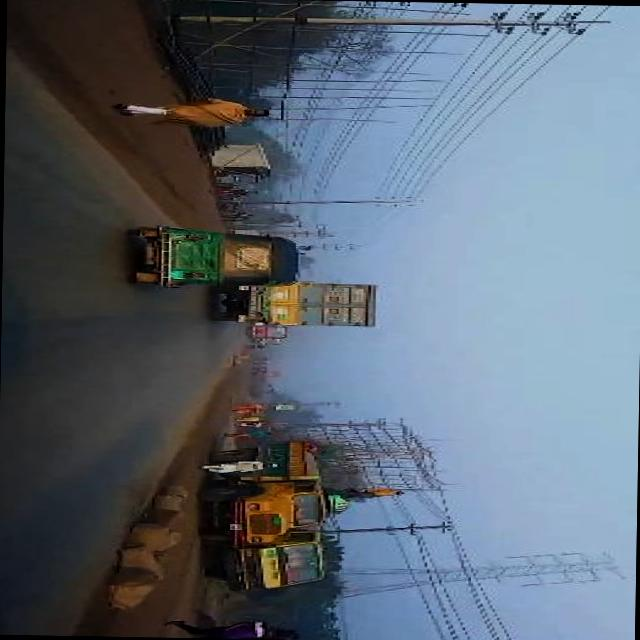bus: (254, 324, 293, 336), (258, 337, 286, 343)
motorcycle: (140, 229, 307, 286), (251, 344, 268, 347)
truck: (206, 438, 347, 540), (212, 279, 387, 326), (210, 528, 332, 591)
